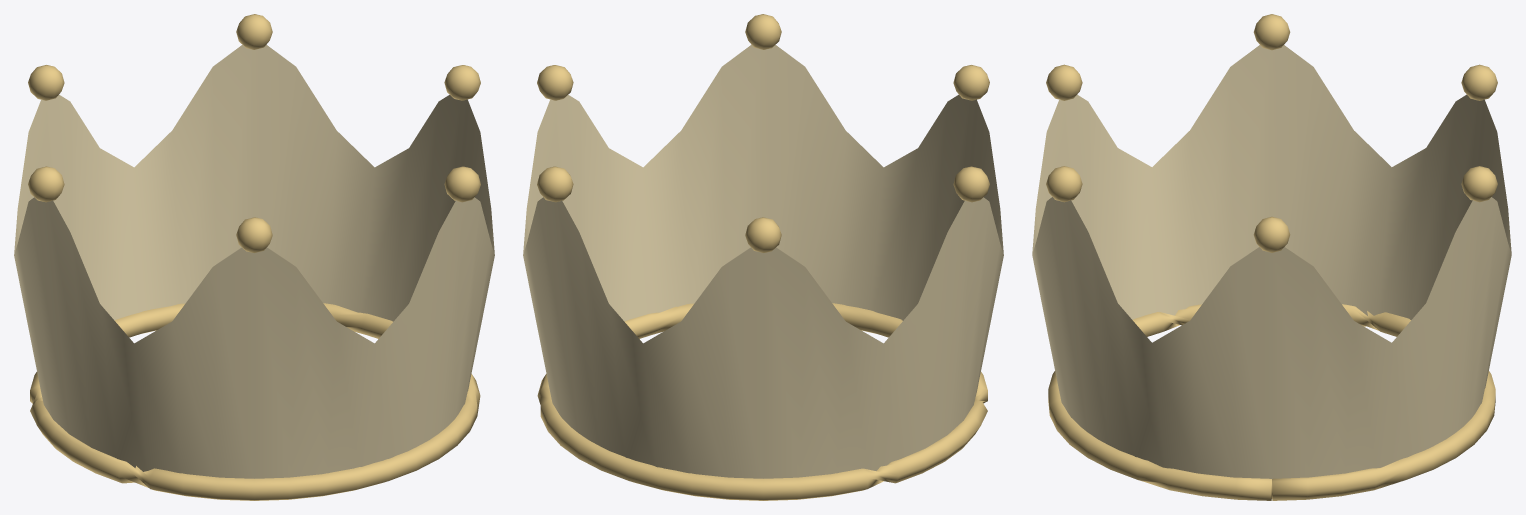
File: celebration-crown.glb
3 views of the same model, side by side, from view 1: azimuth 30°, elevation 25°; view 2: azimuth 150°, elevation 25°; view 3: azimuth 270°, elevation 25° (orthographic).
Parts seen in each view (by area): view 1: crown-0, base-1, tips-2; view 2: crown-0, base-1, tips-2; view 3: crown-0, base-1, tips-2.
Part boxes in pixels (x1,y1,x2,y2): crown-0: (14,45,494,478); base-1: (30,303,480,500); tips-2: (28,14,480,252); crown-0: (523,45,1003,478); base-1: (537,303,987,500); tips-2: (537,14,989,252); crown-0: (1032,45,1511,478); base-1: (1048,304,1495,500); tips-2: (1046,14,1497,252).
Bounding box in the file's own units: 1.27 × 0.795 × 1.18.
